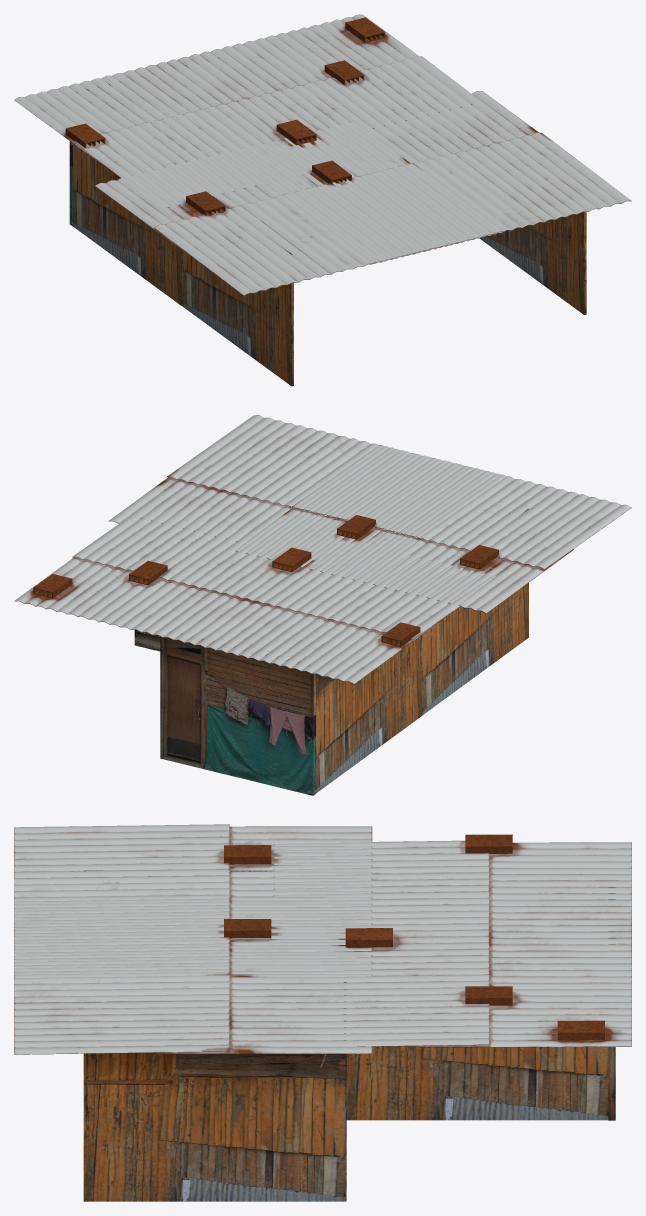
File: casa_derecha_22.fbx
3 renders of one model, top to bottom at view 1: azimuth 30°, elevation 25°; view 2: azimuth 150°, elevation 25°; view 3: azimuth 270°, elevation 25°, orthographic. The views are drawn at different scales.
Visible parts, largest first — view 1: Techo_22, casa_derecha_22C.005, casa_derecha_22C.002, casa_derecha_22C.003; view 2: Techo_22, casa_derecha_22, casa_derecha_22C.002, casa_derecha_22C.005; view 3: Techo_22, casa_derecha_22C.003, casa_derecha_22C.001, casa_derecha_22.
Part boxes in pixels (left/top/right/bottom): Techo_22: left=14, top=14, right=631, bottom=295; casa_derecha_22C.005: left=182, top=196, right=293, bottom=386; casa_derecha_22C.002: left=73, top=143, right=182, bottom=306; casa_derecha_22C.003: left=480, top=211, right=586, bottom=314; Techo_22: left=14, top=415, right=631, bottom=684; casa_derecha_22: left=160, top=630, right=315, bottom=795; casa_derecha_22C.002: left=316, top=635, right=422, bottom=793; casa_derecha_22C.005: left=422, top=508, right=528, bottom=715; Techo_22: left=14, top=824, right=631, bottom=1054; casa_derecha_22C.003: left=83, top=1052, right=345, bottom=1201; casa_derecha_22C.001: left=346, top=1046, right=608, bottom=1120; casa_derecha_22: left=608, top=887, right=615, bottom=1120.
Bounding box in the file's own units: 1096 × 378 × 1260.
